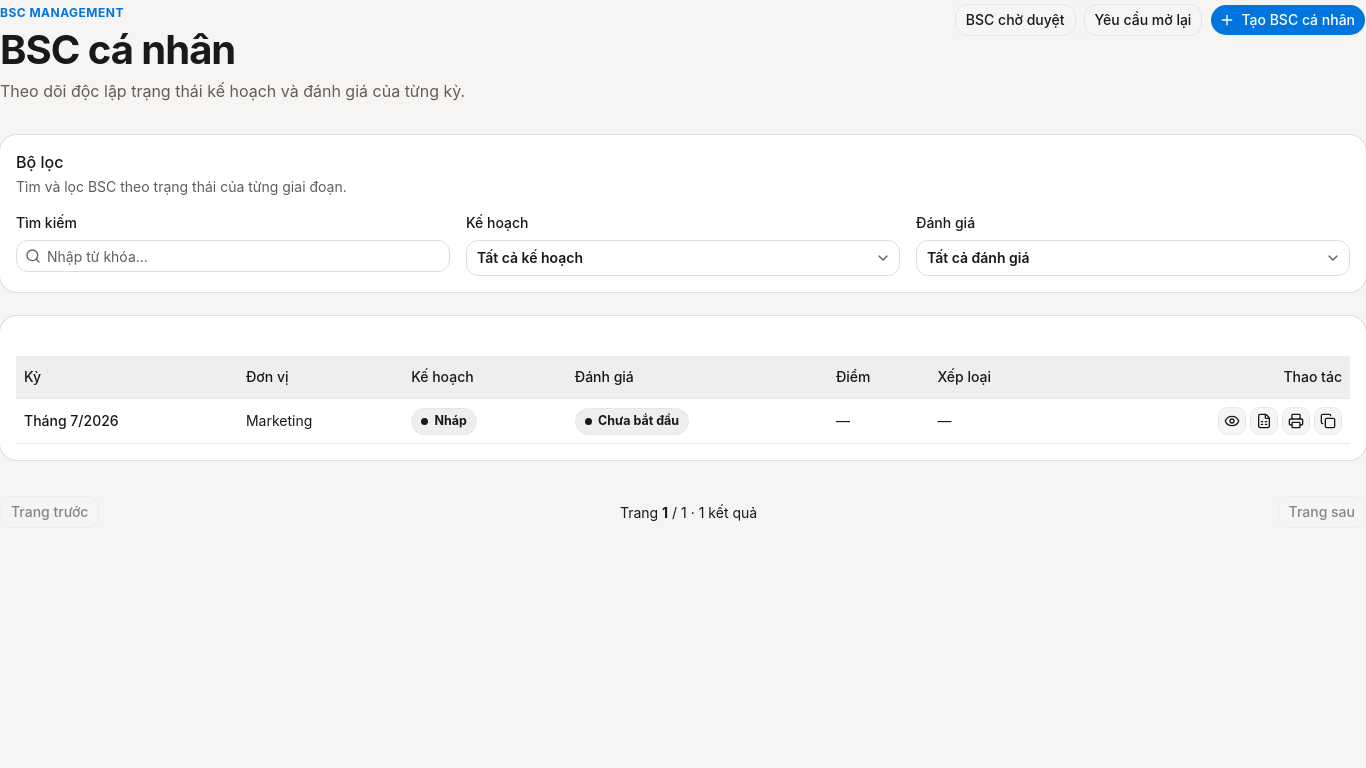
Test: BscListPage › explains that duplicate creates a blank BSC when version 1 is absent
Click the button named "Sao chép BSC": (1328, 421) [1314,407,1342,435]
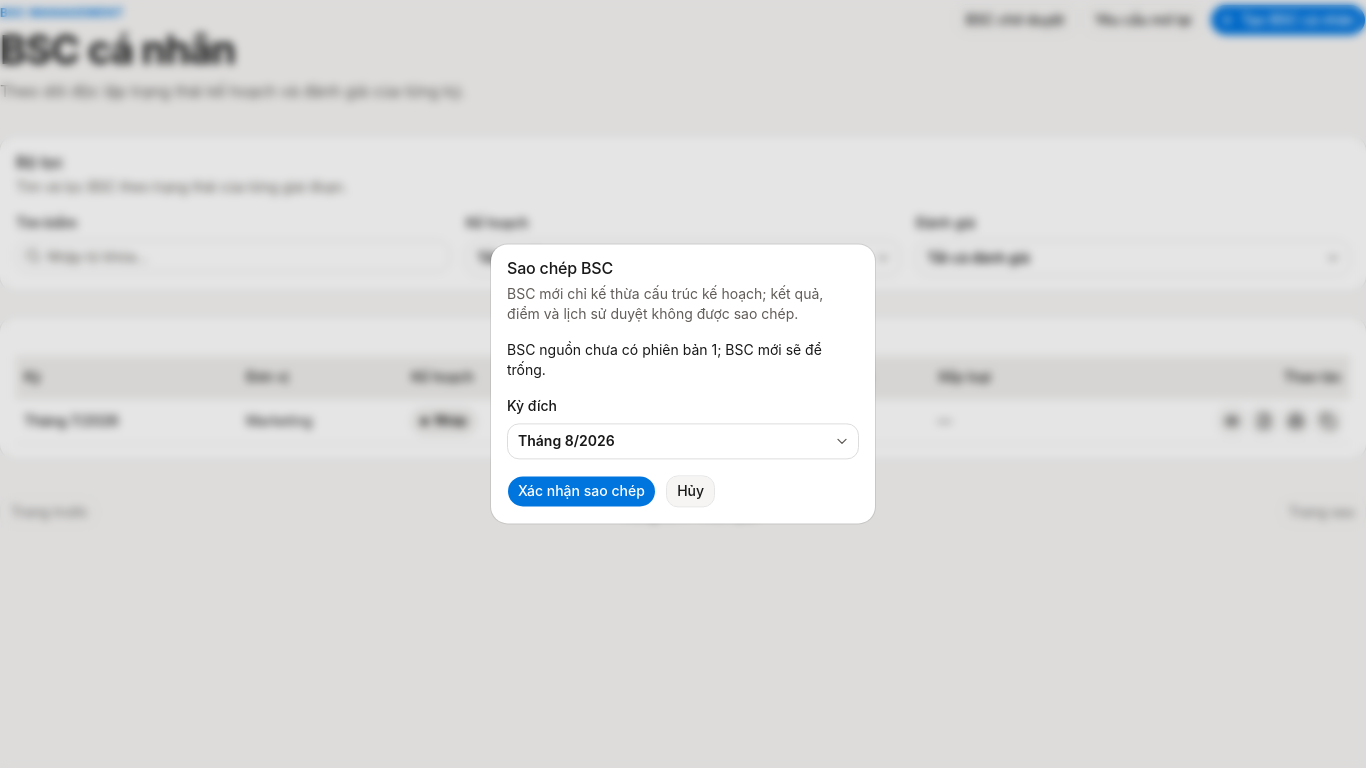
expect the text "BSC nguồn chưa có phiên bản 1; BSC mới sẽ để trống." is shown: met, box [507,340,859,380]
expect the dropdown named "Kỳ đích" reads "Tháng 8/2026": met, box [507,424,859,460]
